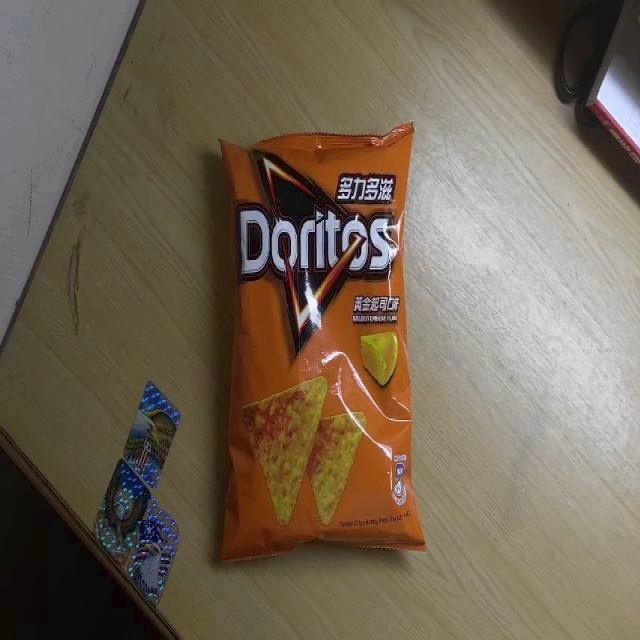Doritos: (216, 122, 428, 555)
